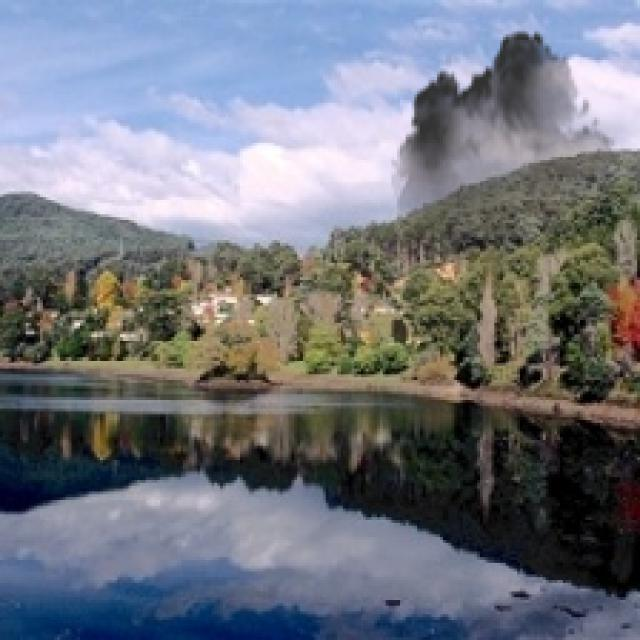Smoke: (391, 20, 623, 272)
